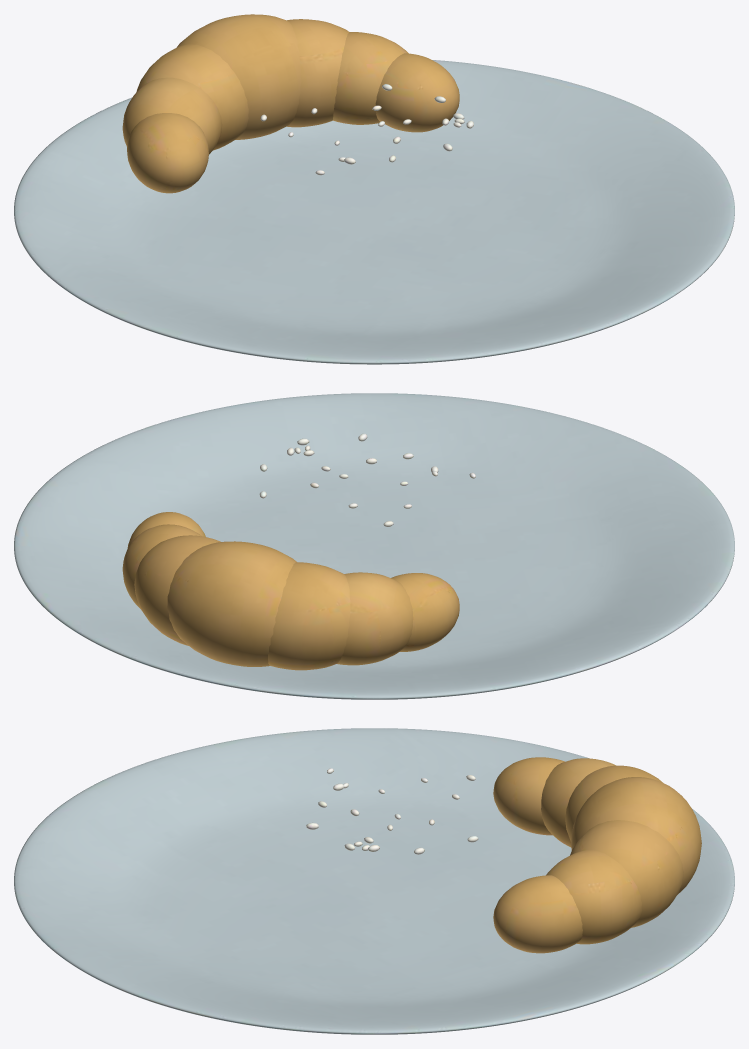
File: croissant.glb
3 views of the same model, one above another, from view 1: azimuth 30°, elevation 25°; view 2: azimuth 150°, elevation 25°; view 3: azimuth 270°, elevation 25° (orthographic).
Parts seen in each view (by area): view 1: croissant; view 2: croissant; view 3: croissant.
Part boxes in pixels (x1,y1,x2,y2): croissant: (14, 14, 734, 364); croissant: (14, 393, 734, 699); croissant: (14, 728, 734, 1034).
Bounding box in the file's own units: 0.2576 × 0.048 × 0.2576.
1 material, 1 textured.
